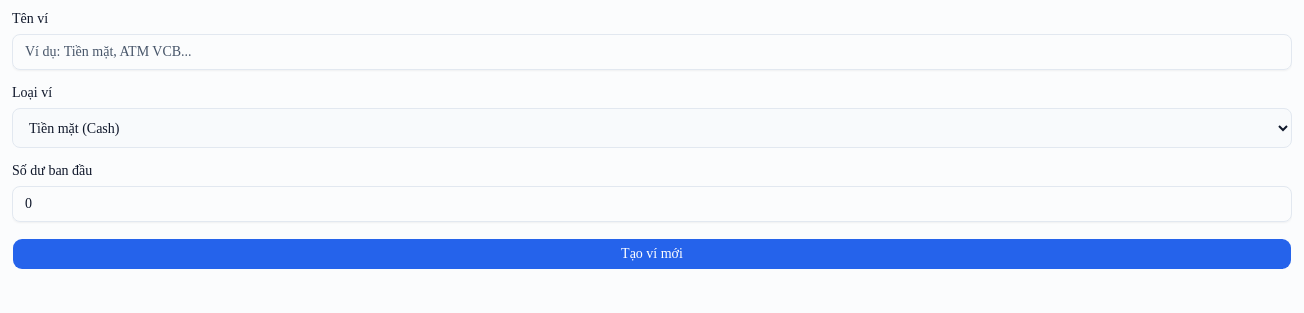
Test case: CreateWalletForm › should show validation error for empty name
What coordinates should you click on to do the following:
click the button with test id "finance-wallet-submit-btn"
I would click on:
 (652, 254)
Its box is [12, 238, 1292, 270].
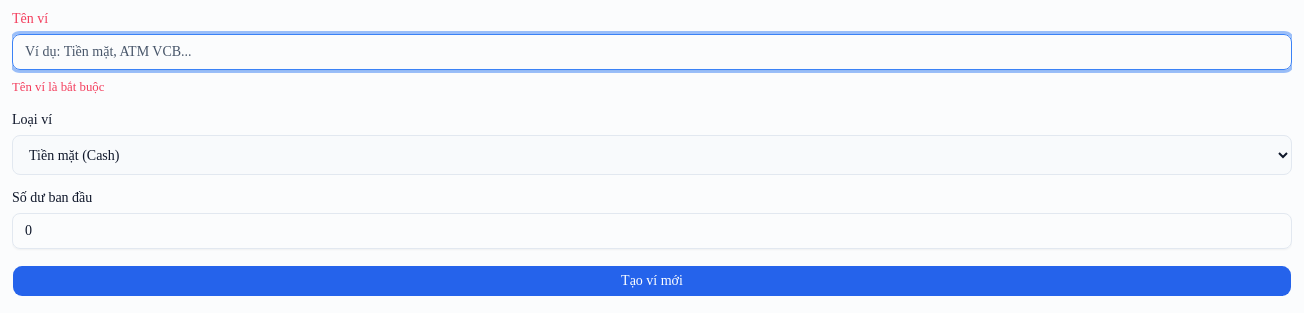
Result: the text "Tên ví là bắt buộc" is shown at [12, 80, 104, 94]
